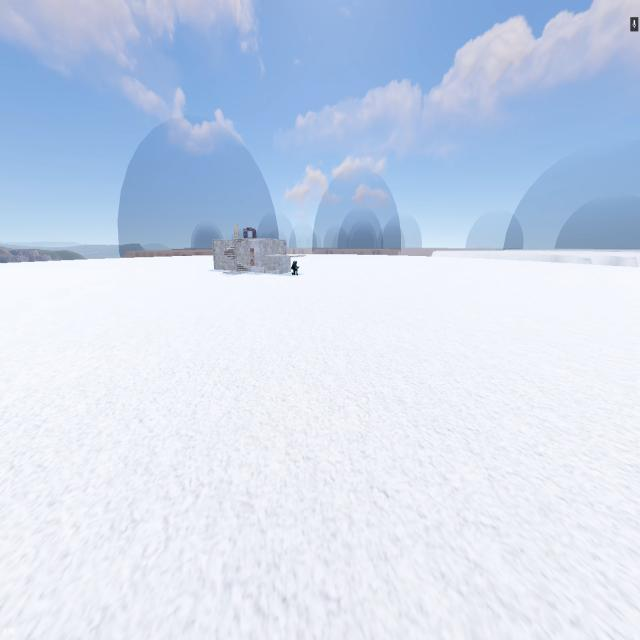Player: (291, 260, 300, 276)
